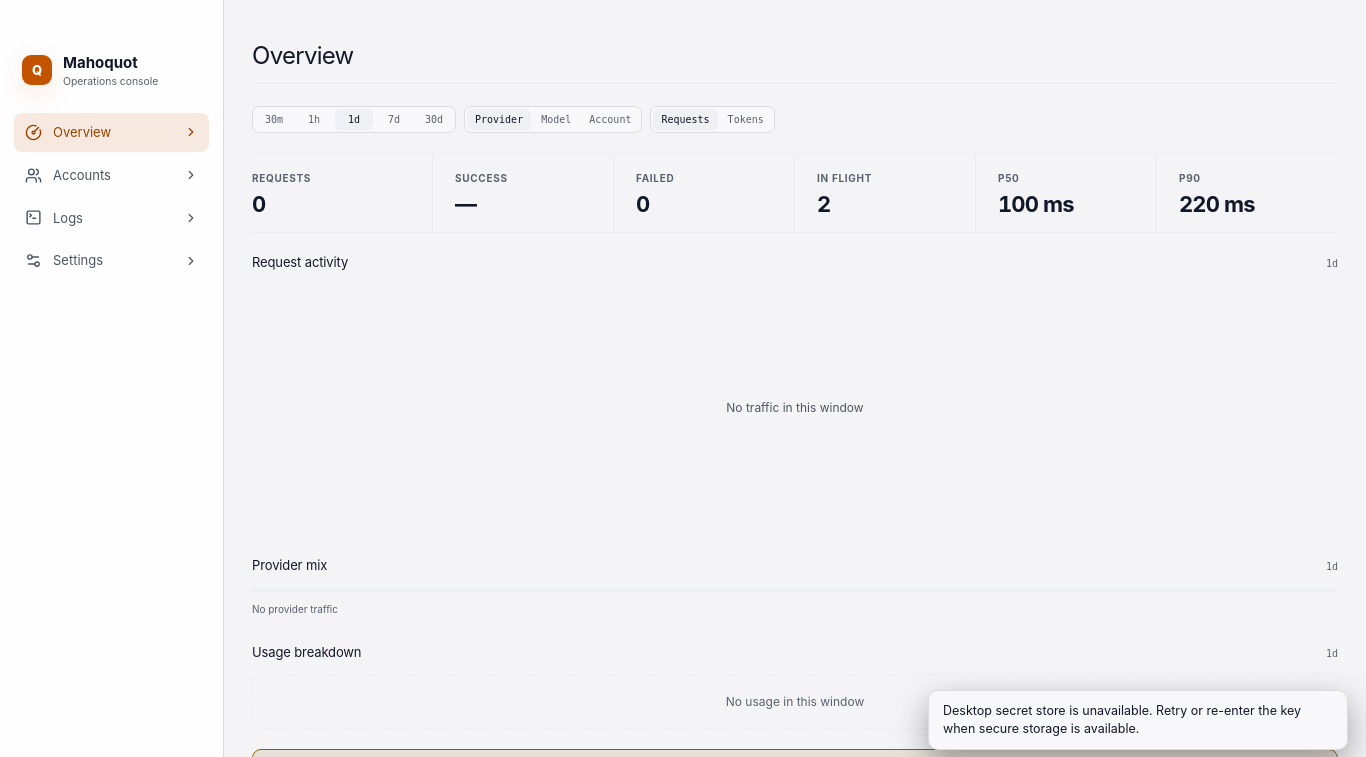
Scenario: Logs and Settings characterization pin › Settings surface behavior › saves proxy settings with retry validation
Click the button "Settings": [112, 261] box [14,241,209,280]
(page scrolled)
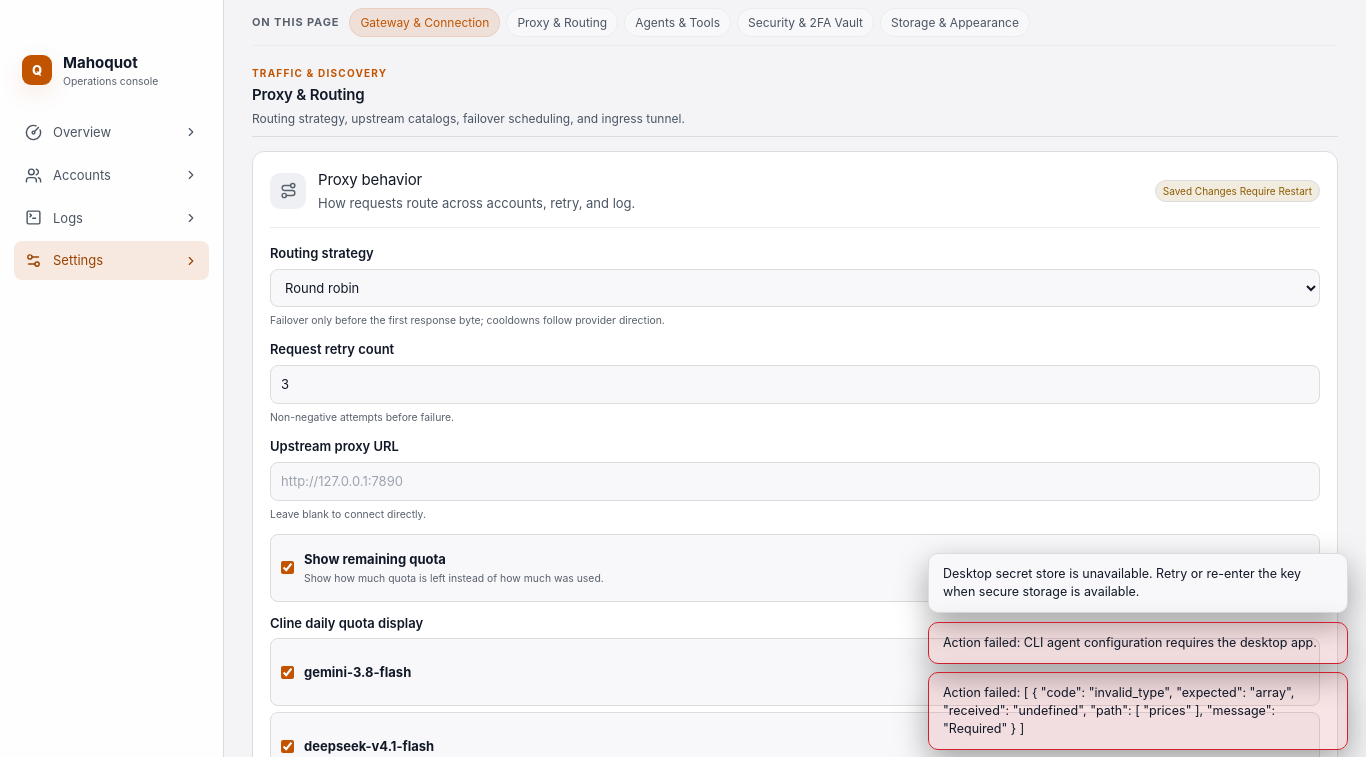
Replace the text in the number field named "Request retry count" with "-1": [795, 384] box [270,365,1320,404]
(page scrolled)
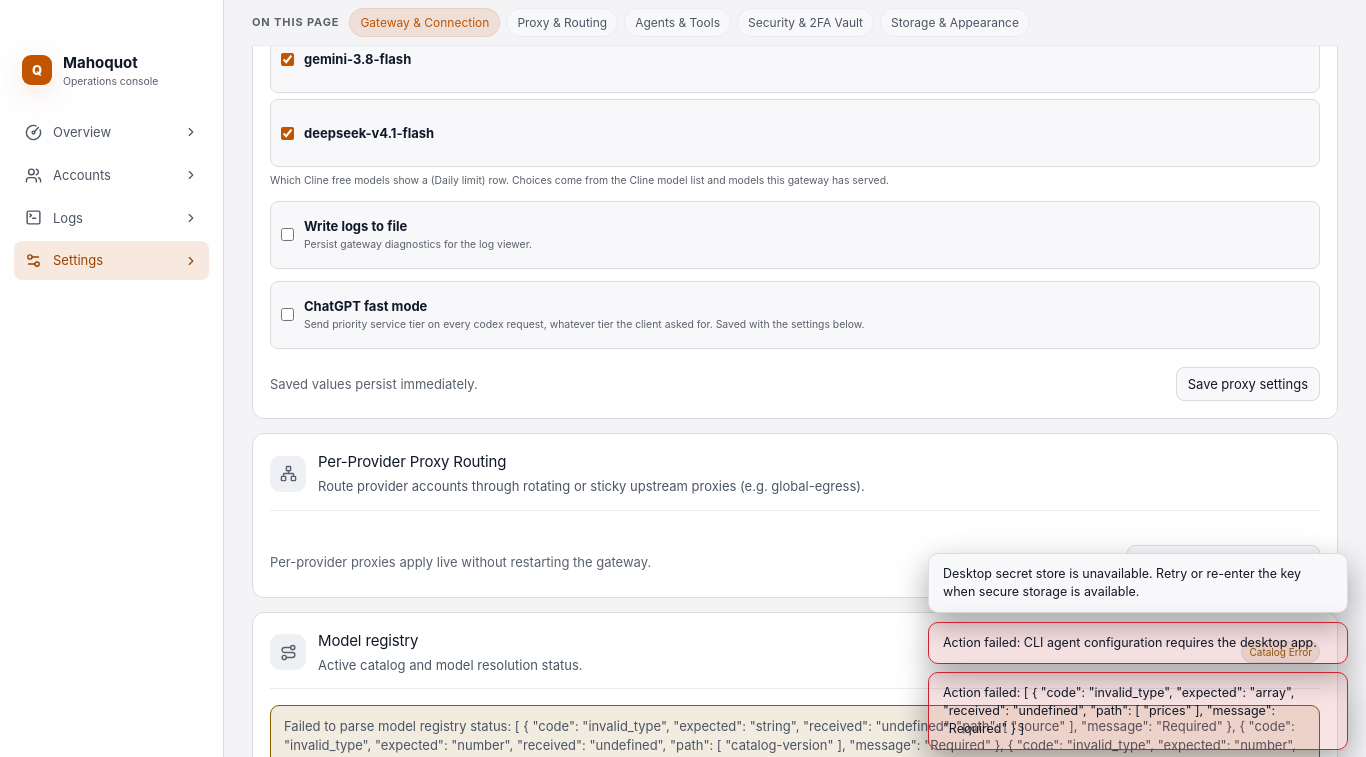
Click the button "Save proxy settings": [1248, 384] box [1176,366,1320,401]
(page scrolled)
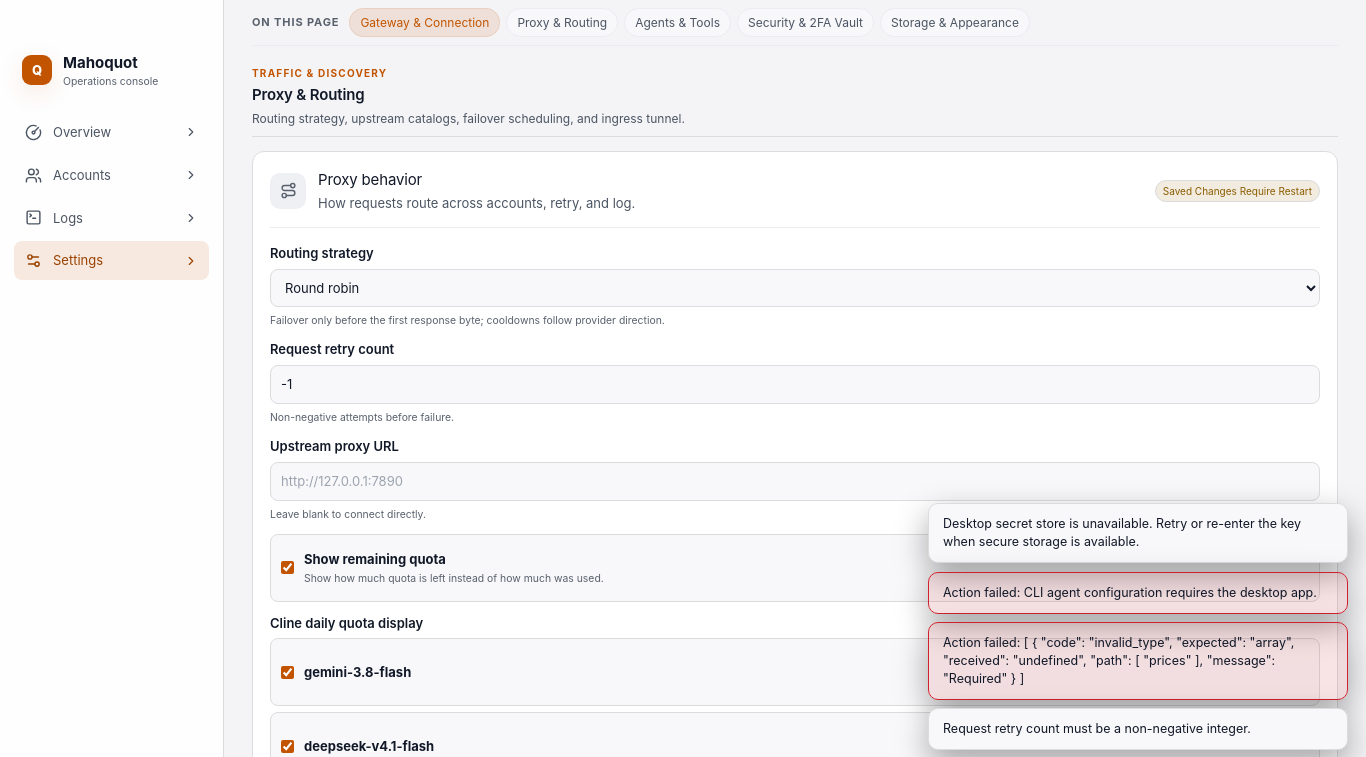
Expected: the button "Request retry count must be a non-negative integer." is shown, [928,708,1348,750]
Replace the text in the number field named "Request retry count" with "4": [795, 384] box [270,365,1320,404]
(page scrolled)
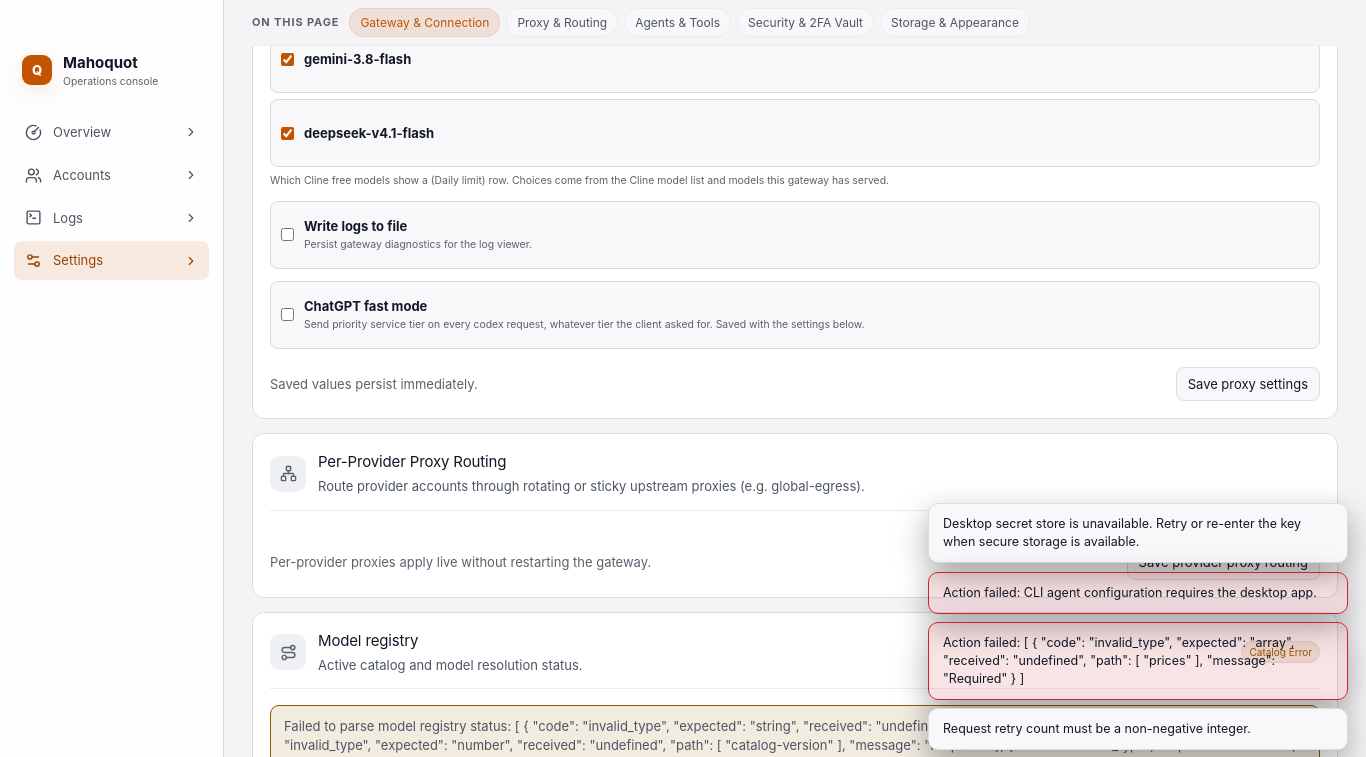
Click the button "Save proxy settings": [1248, 384] box [1176,366,1320,401]
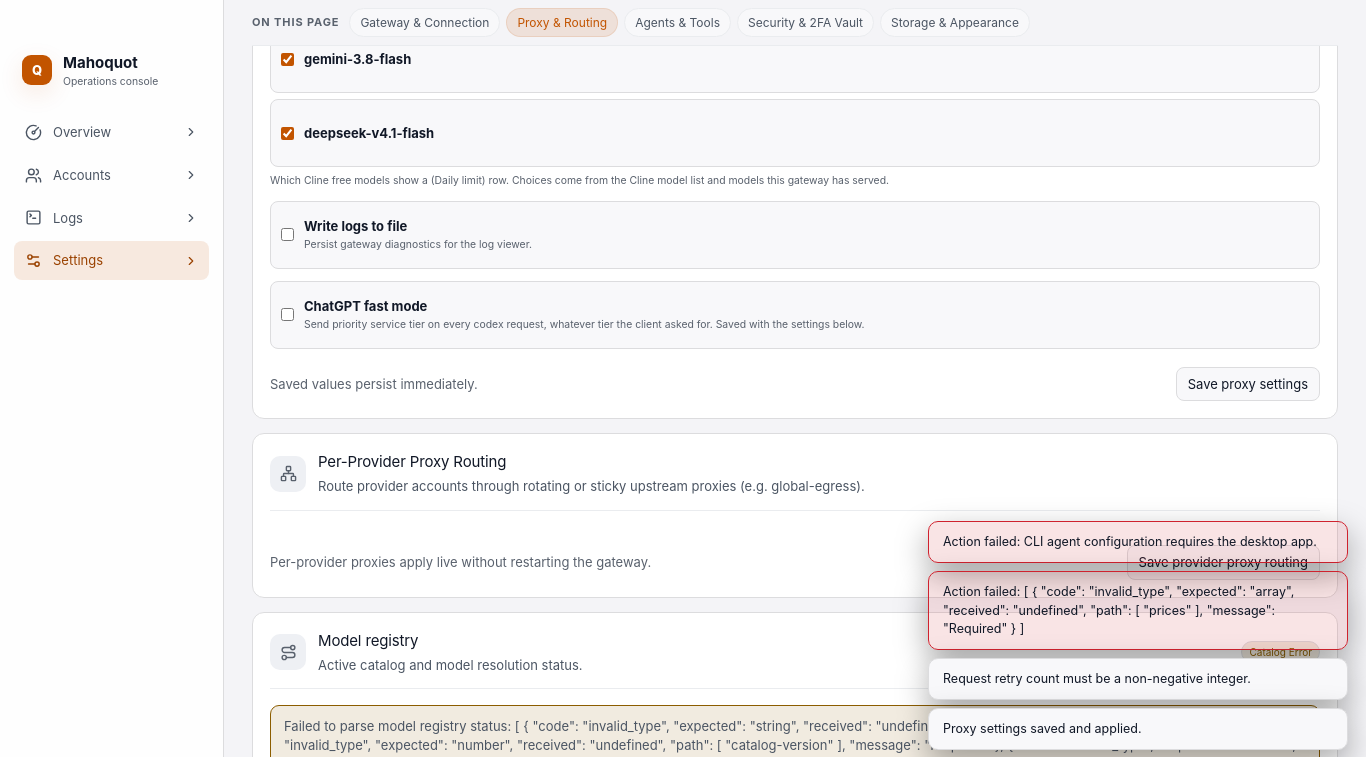
Expected: the button "Proxy settings saved and applied." is shown, [928,708,1348,750]
